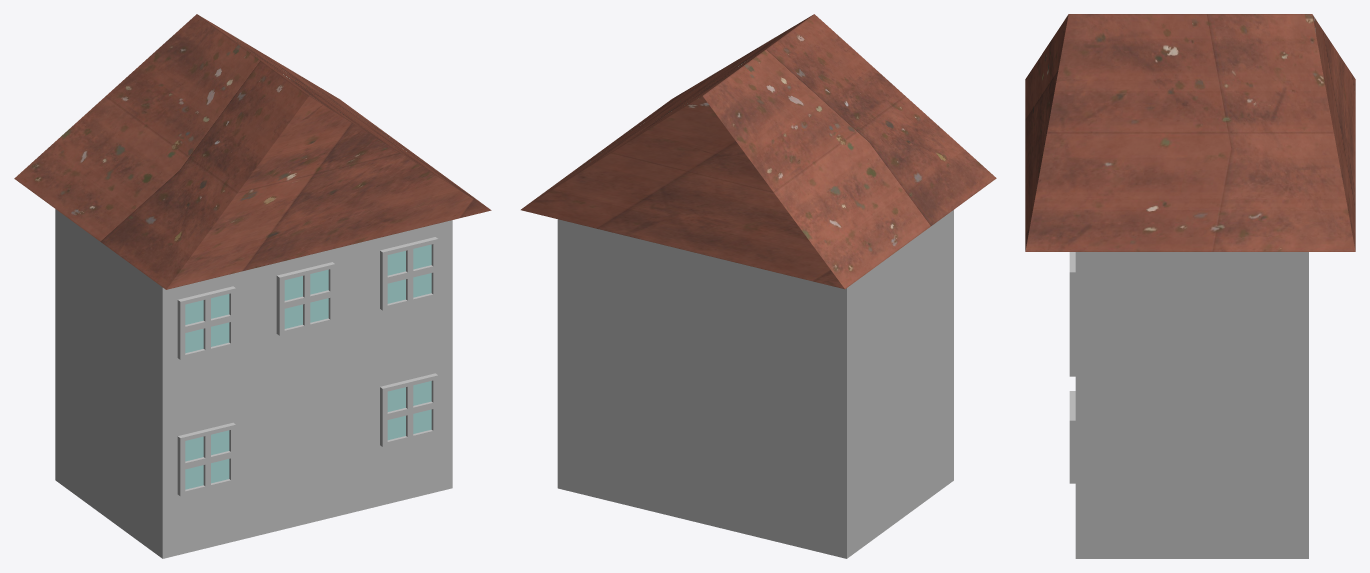
Rendered from buildingwithbeigedoor.fbx.
3 renders of one model, left to right at view 1: azimuth 30°, elevation 25°; view 2: azimuth 150°, elevation 25°; view 3: azimuth 270°, elevation 25°, orthographic. The views are drawn at different scales.
Parts seen in each view (by area): view 1: Cube.006; view 2: Cube.006; view 3: Cube.006.
Boxes of the visible parts, box(x1,y1,x2,y2) form: Cube.006: box(14, 14, 491, 558); Cube.006: box(521, 14, 996, 558); Cube.006: box(1025, 14, 1355, 558).
Size of the model in its own units: 8946 by 11294 by 7232.
